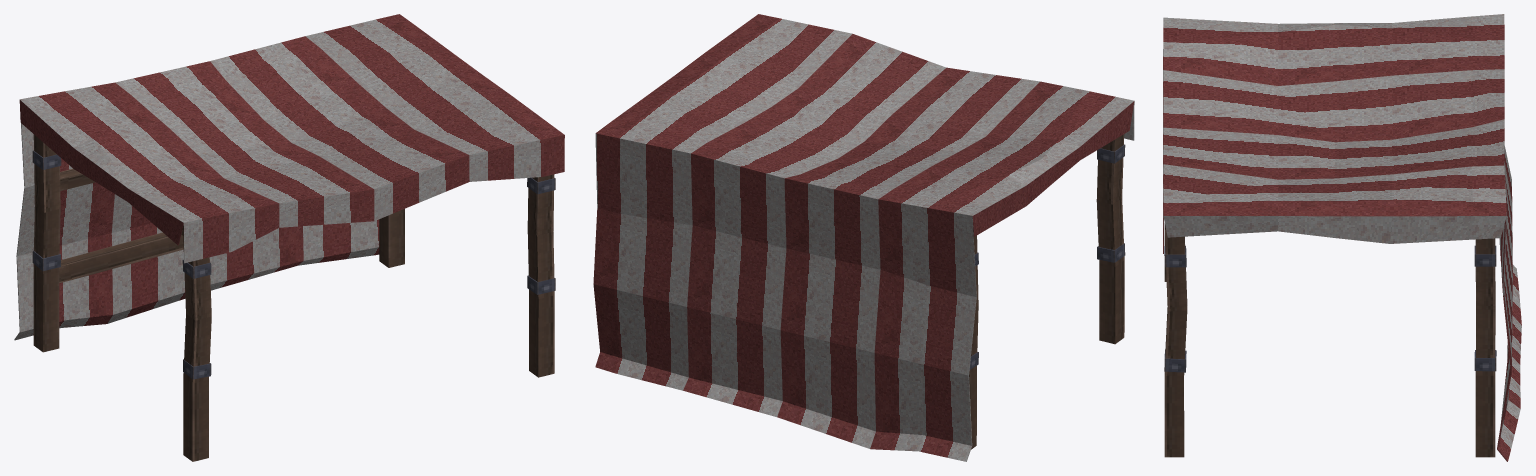
File: market_stall_red.glb
The picture shows the model from 3 angles, left to right: view 1: azimuth 30°, elevation 25°; view 2: azimuth 150°, elevation 25°; view 3: azimuth 270°, elevation 25°; orthographic projection. The views are drawn at different scales.
Visible parts, largest first — view 1: market_stall_red; view 2: market_stall_red; view 3: market_stall_red.
Boxes of the visible parts, x1,y1,x2,y2 form: market_stall_red: [14, 14, 564, 461]; market_stall_red: [593, 14, 1134, 461]; market_stall_red: [1163, 14, 1521, 461].
Size of the model in its own units: 4.42 by 2.81 by 3.46.
Materials: 2 (2 with a texture image).
